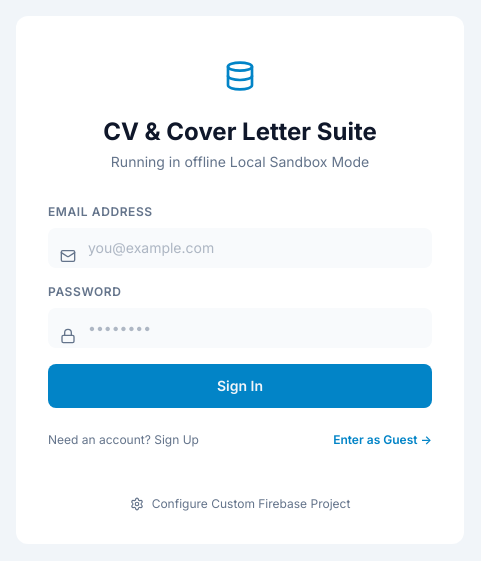
Authentication workflows › renders sign in screen with options to toggle registration
The width and height of the screenshot is (481, 561).
Check: the heading "CV & Cover Letter Suite" is shown, box [103, 117, 377, 146]
Check: the button "Sign In" is shown, box [48, 364, 432, 408]
Click the button "Need an account? Sign Up" at (123, 440), box [48, 432, 199, 448]
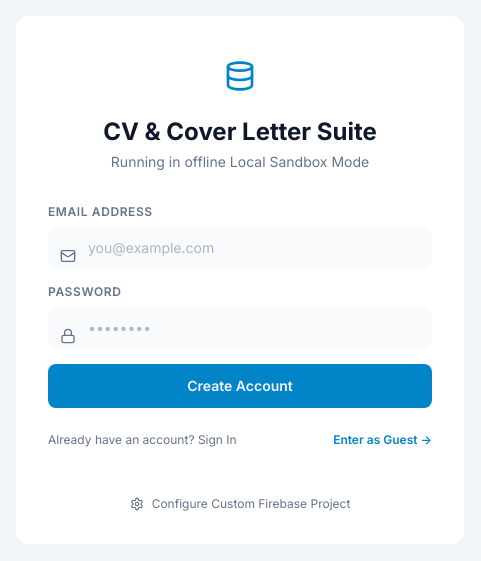
Check: the button "Create Account" is shown, box [48, 364, 432, 408]
